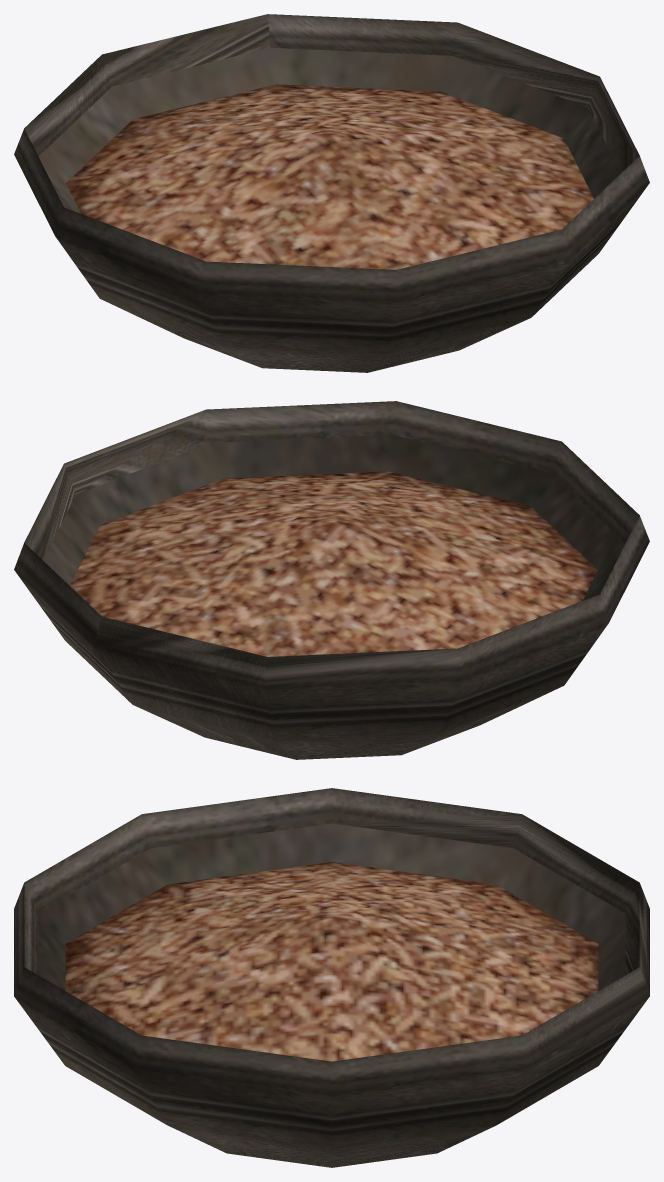
Rendered from edb_con_tato_bowl_full_s01_l0.fbx.
3 views of the same model, one above another, from view 1: azimuth 30°, elevation 25°; view 2: azimuth 150°, elevation 25°; view 3: azimuth 270°, elevation 25° (orthographic). The views are drawn at different scales.
Visible parts, largest first — view 1: mesh_node; view 2: mesh_node; view 3: mesh_node.
Part boxes in pixels (x1,y1,x2,y2): mesh_node: [14, 14, 649, 372]; mesh_node: [14, 401, 649, 759]; mesh_node: [14, 788, 649, 1167].
Bounding box in the file's own units: 0.5643 × 0.1623 × 0.5367.
